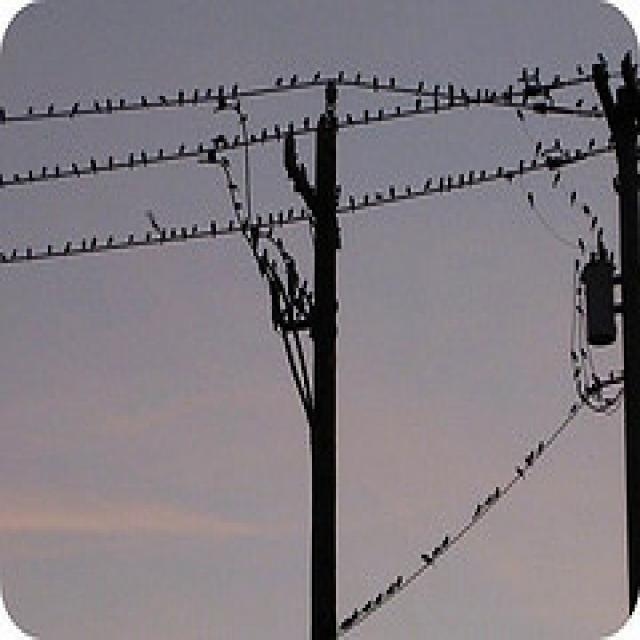crossarm: (275, 139, 323, 206), (336, 224, 344, 249)
pole: (592, 50, 640, 615), (307, 82, 336, 640)
transformer: (581, 238, 616, 348)
wire: (339, 338, 624, 633), (0, 78, 579, 188), (211, 135, 315, 416), (0, 78, 608, 124), (336, 139, 616, 213), (0, 210, 315, 267), (547, 160, 603, 249), (520, 178, 584, 252), (587, 60, 611, 107)
